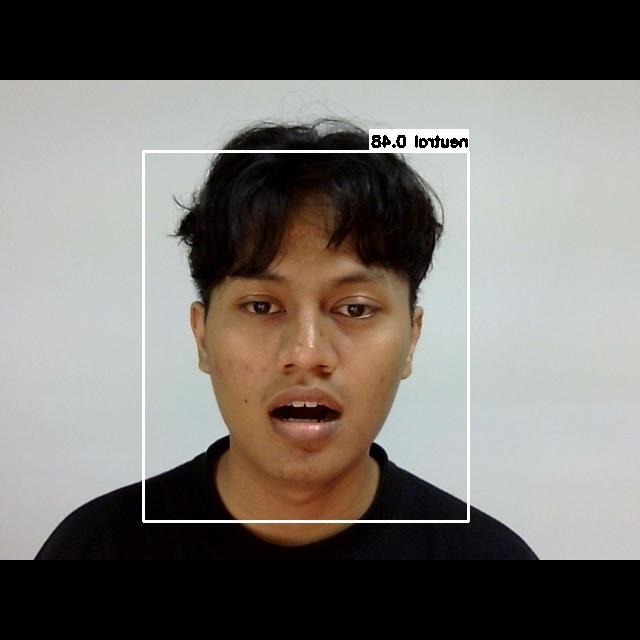Surprised: (208, 249, 402, 456)
